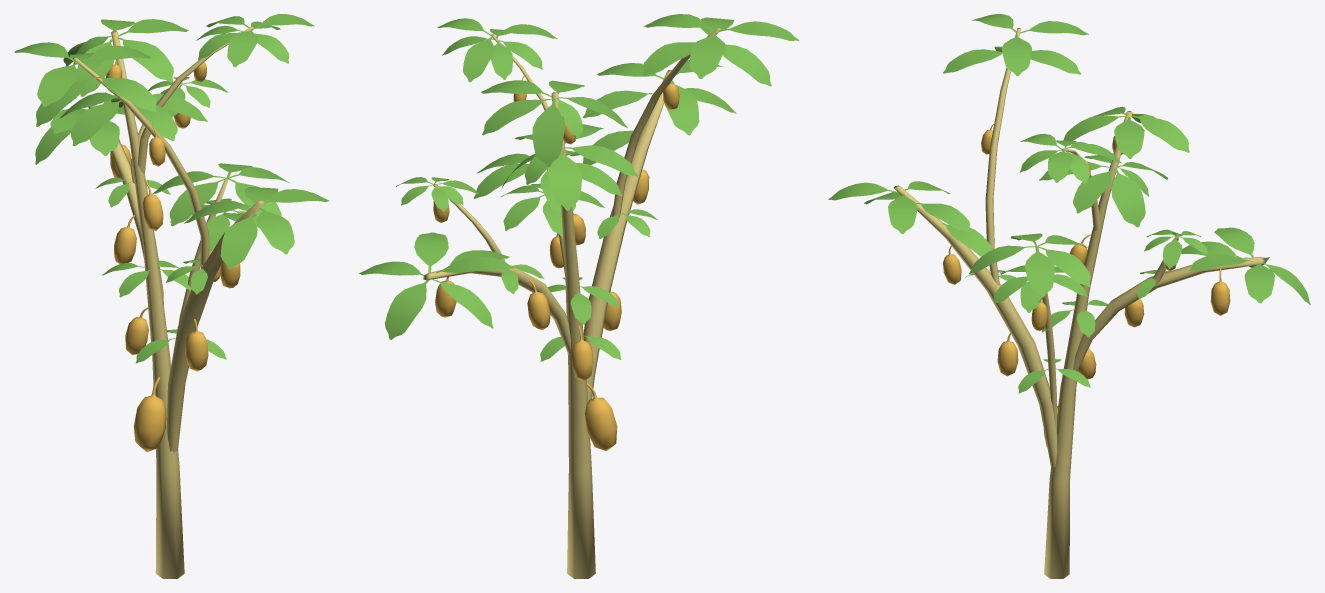
File: model_madurocacau_01.fbx
The picture shows the model from 3 angles, left to right: view 1: azimuth 30°, elevation 25°; view 2: azimuth 150°, elevation 25°; view 3: azimuth 270°, elevation 25°; orthographic projection. The views are drawn at different scales.
Parts seen in each view (by area): view 1: NurbsPath.004; view 2: NurbsPath.004; view 3: NurbsPath.004.
Part boxes in pixels (x1,y1,x2,y2): NurbsPath.004: (14,14,329,578); NurbsPath.004: (359,14,799,578); NurbsPath.004: (828,14,1310,578).
Size of the model in its own units: 4.36 by 7.35 by 6.49.
